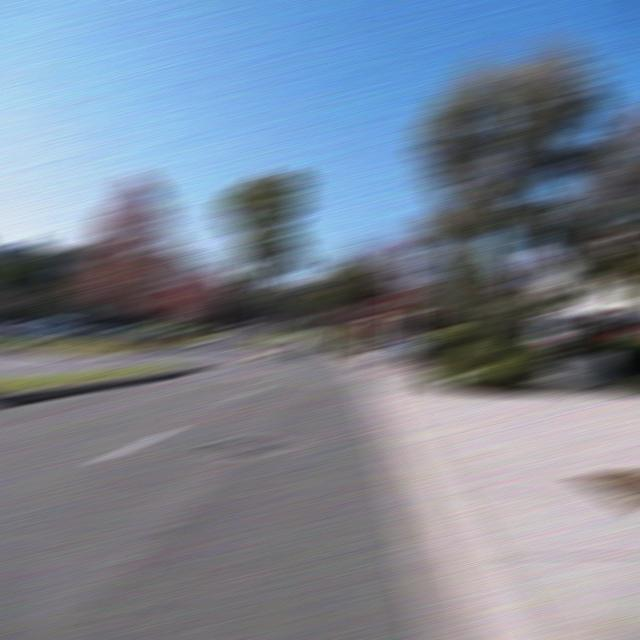stop: (160, 286, 192, 309), (378, 292, 408, 315)
